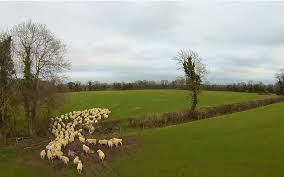sheep: (111, 135, 123, 147), (96, 148, 106, 162), (97, 138, 110, 148), (59, 154, 70, 165), (76, 161, 85, 174), (38, 148, 47, 160), (85, 137, 96, 146), (81, 143, 90, 152), (46, 148, 53, 159), (77, 135, 86, 142), (107, 139, 113, 147)
